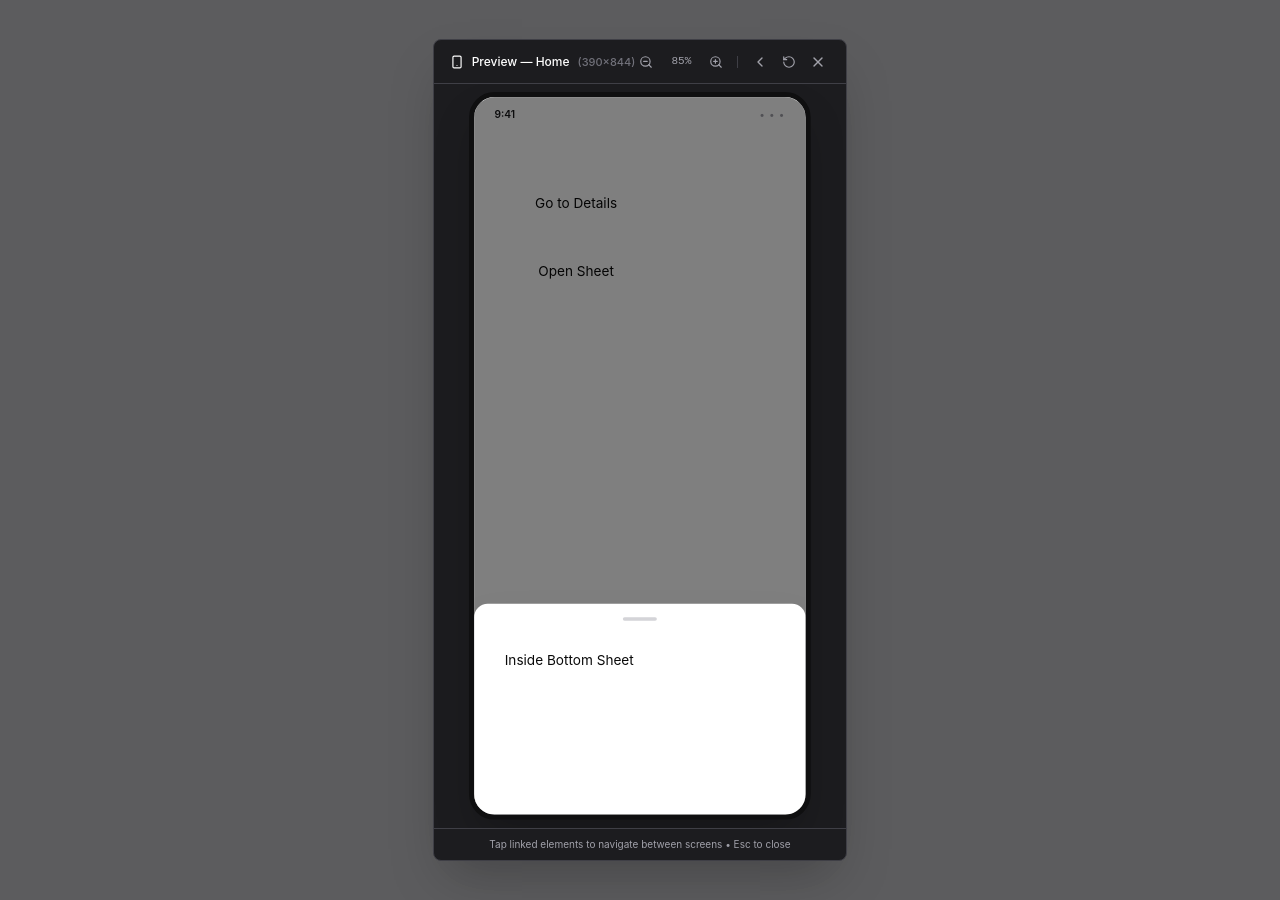
Test: LOW Post v0.1.0 Audit & QA › PreviewModal handles prototype navigation, overlay opening, and back navigation
Earlier steps of the test are not shown.
Later steps or results of the test are not shown.
Check: the element that starts with "Preview —" shows "Inside Bottom Sheet", box x1=505 y1=652 x2=634 y2=669
Click the element with test id "preview-overlay-backdrop" at (640, 456), box x1=474 y1=97 x2=806 y2=814
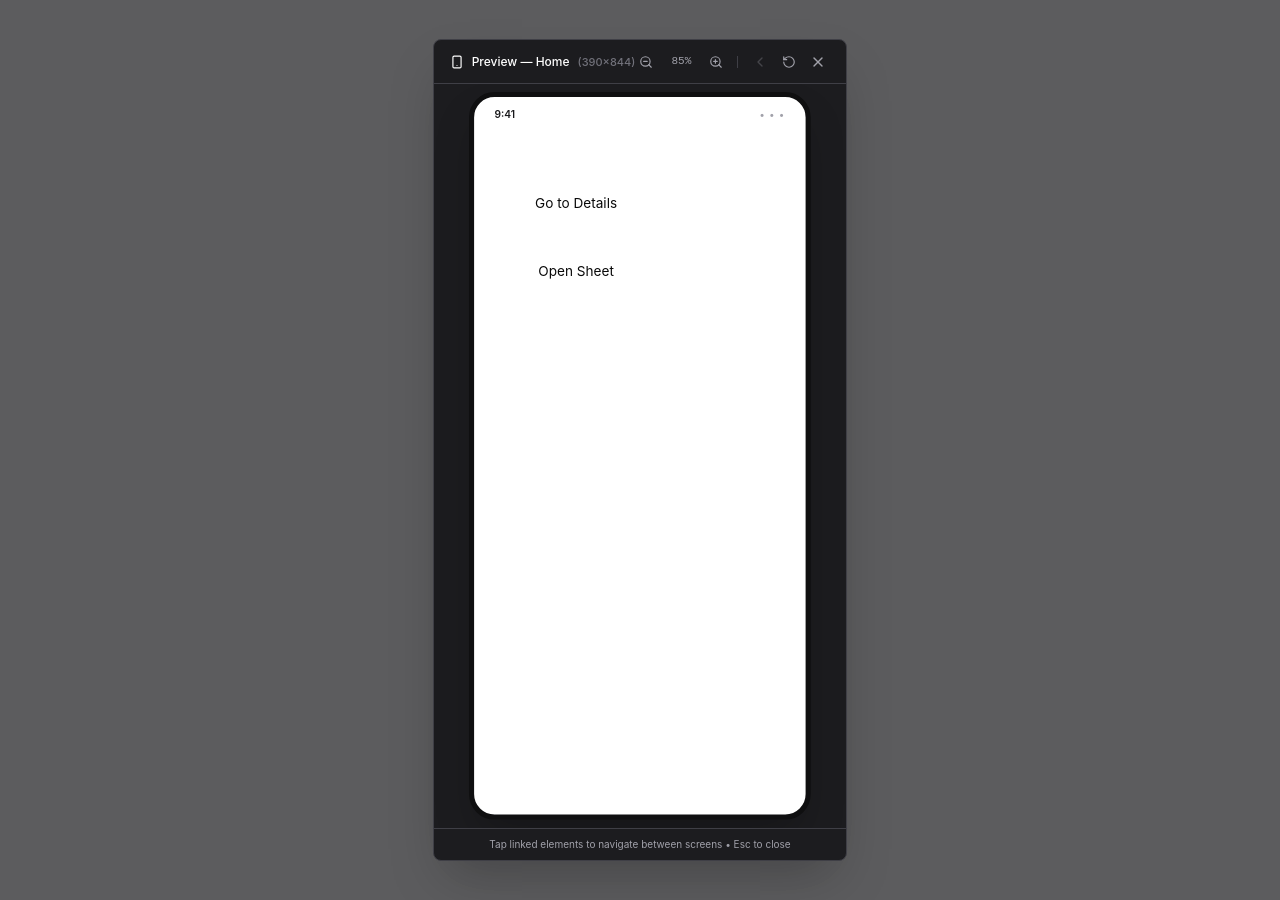
Check: the element with test id "preview-overlay-backdrop" is gone
